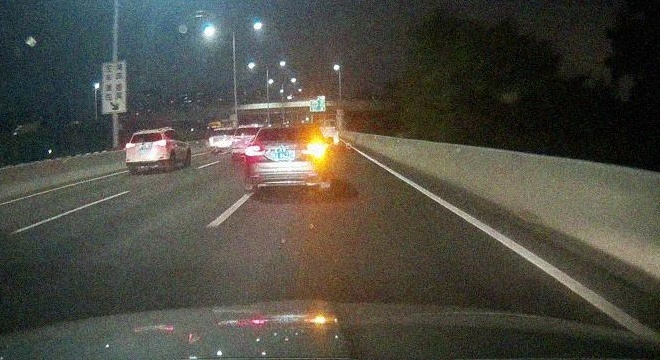L_light: (245, 145, 265, 157), (126, 142, 136, 148)
R_light: (307, 144, 328, 156), (156, 140, 167, 146)
T_light: (280, 127, 295, 130), (143, 133, 151, 135)
night-no: (125, 130, 169, 172)
night-right: (244, 124, 332, 197)
